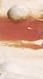Corrosion: (1, 14, 43, 50)
